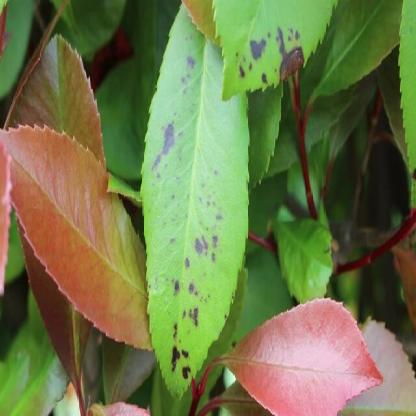black-spot: (156, 92, 222, 326), (235, 10, 300, 74)
